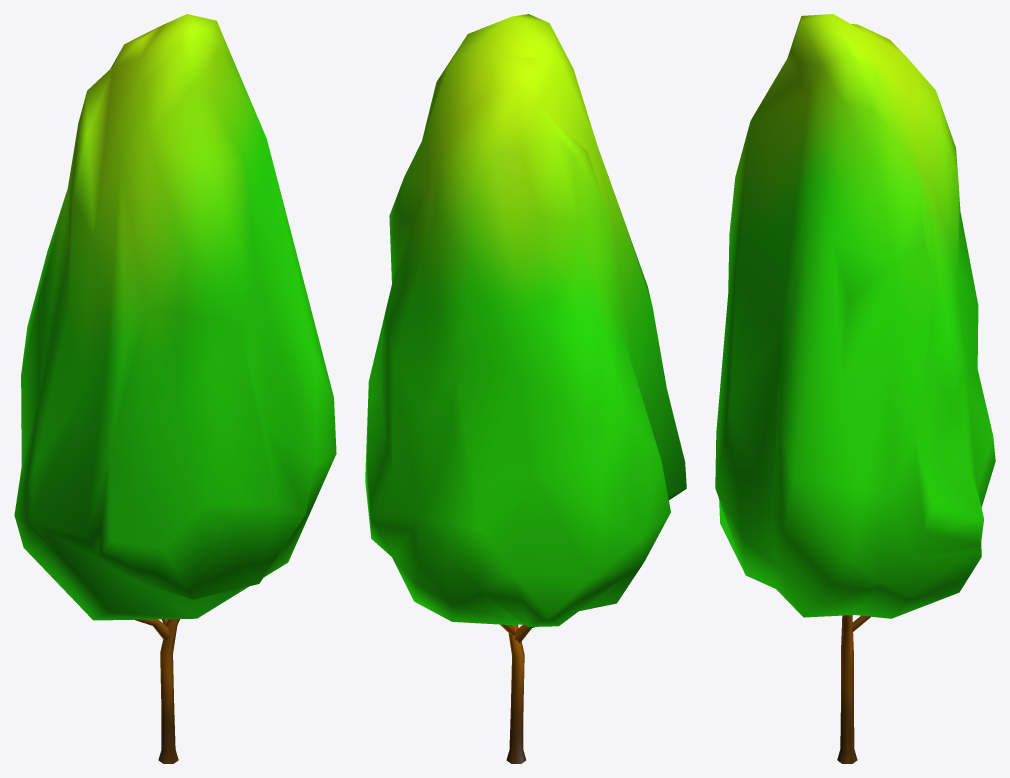
The model's file is TreeStyle3Blue_09.fbx.
3 renders of one model, left to right at view 1: azimuth 30°, elevation 25°; view 2: azimuth 150°, elevation 25°; view 3: azimuth 270°, elevation 25°, orthographic. The views are drawn at different scales.
Visible parts, largest first — view 1: TreeStyle3_09; view 2: TreeStyle3_09; view 3: TreeStyle3_09.
Boxes of the visible parts, bbox=[...] form: TreeStyle3_09: bbox=[14, 14, 336, 763]; TreeStyle3_09: bbox=[365, 14, 686, 763]; TreeStyle3_09: bbox=[715, 14, 995, 763].
Size of the model in its own units: 869 by 2153 by 728.
